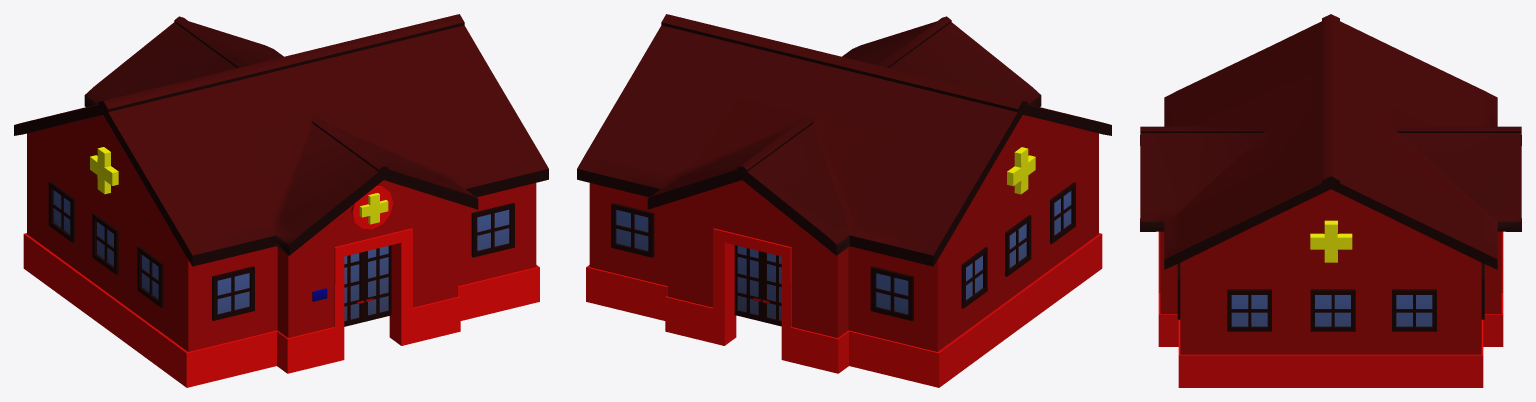
Rendered from buildings-business-doctorsoffice_v1.fbx.
3 views of the same model, side by side, from view 1: azimuth 30°, elevation 25°; view 2: azimuth 150°, elevation 25°; view 3: azimuth 270°, elevation 25° (orthographic). The views are drawn at different scales.
Parts seen in each view (by area): view 1: DoctorsOffice_base, DoctorsOffice_windowRefl, DoctorsOffice_light; view 2: DoctorsOffice_base, DoctorsOffice_windowRefl, DoctorsOffice_light; view 3: DoctorsOffice_base, DoctorsOffice_windowRefl, DoctorsOffice_light.
Boxes of the visible parts, left/top/right/bottom form: DoctorsOffice_base: left=14, top=14, right=548, bottom=387; DoctorsOffice_windowRefl: left=53, top=190, right=509, bottom=320; DoctorsOffice_light: left=90, top=147, right=388, bottom=224; DoctorsOffice_base: left=577, top=14, right=1111, bottom=387; DoctorsOffice_windowRefl: left=616, top=191, right=1071, bottom=320; DoctorsOffice_light: left=1007, top=147, right=1035, bottom=194; DoctorsOffice_base: left=1140, top=14, right=1521, bottom=387; DoctorsOffice_windowRefl: left=1231, top=295, right=1432, bottom=326; DoctorsOffice_light: left=1310, top=220, right=1352, bottom=262.
Bounding box in the file's own units: 15.74 × 9.43 × 15.36.
